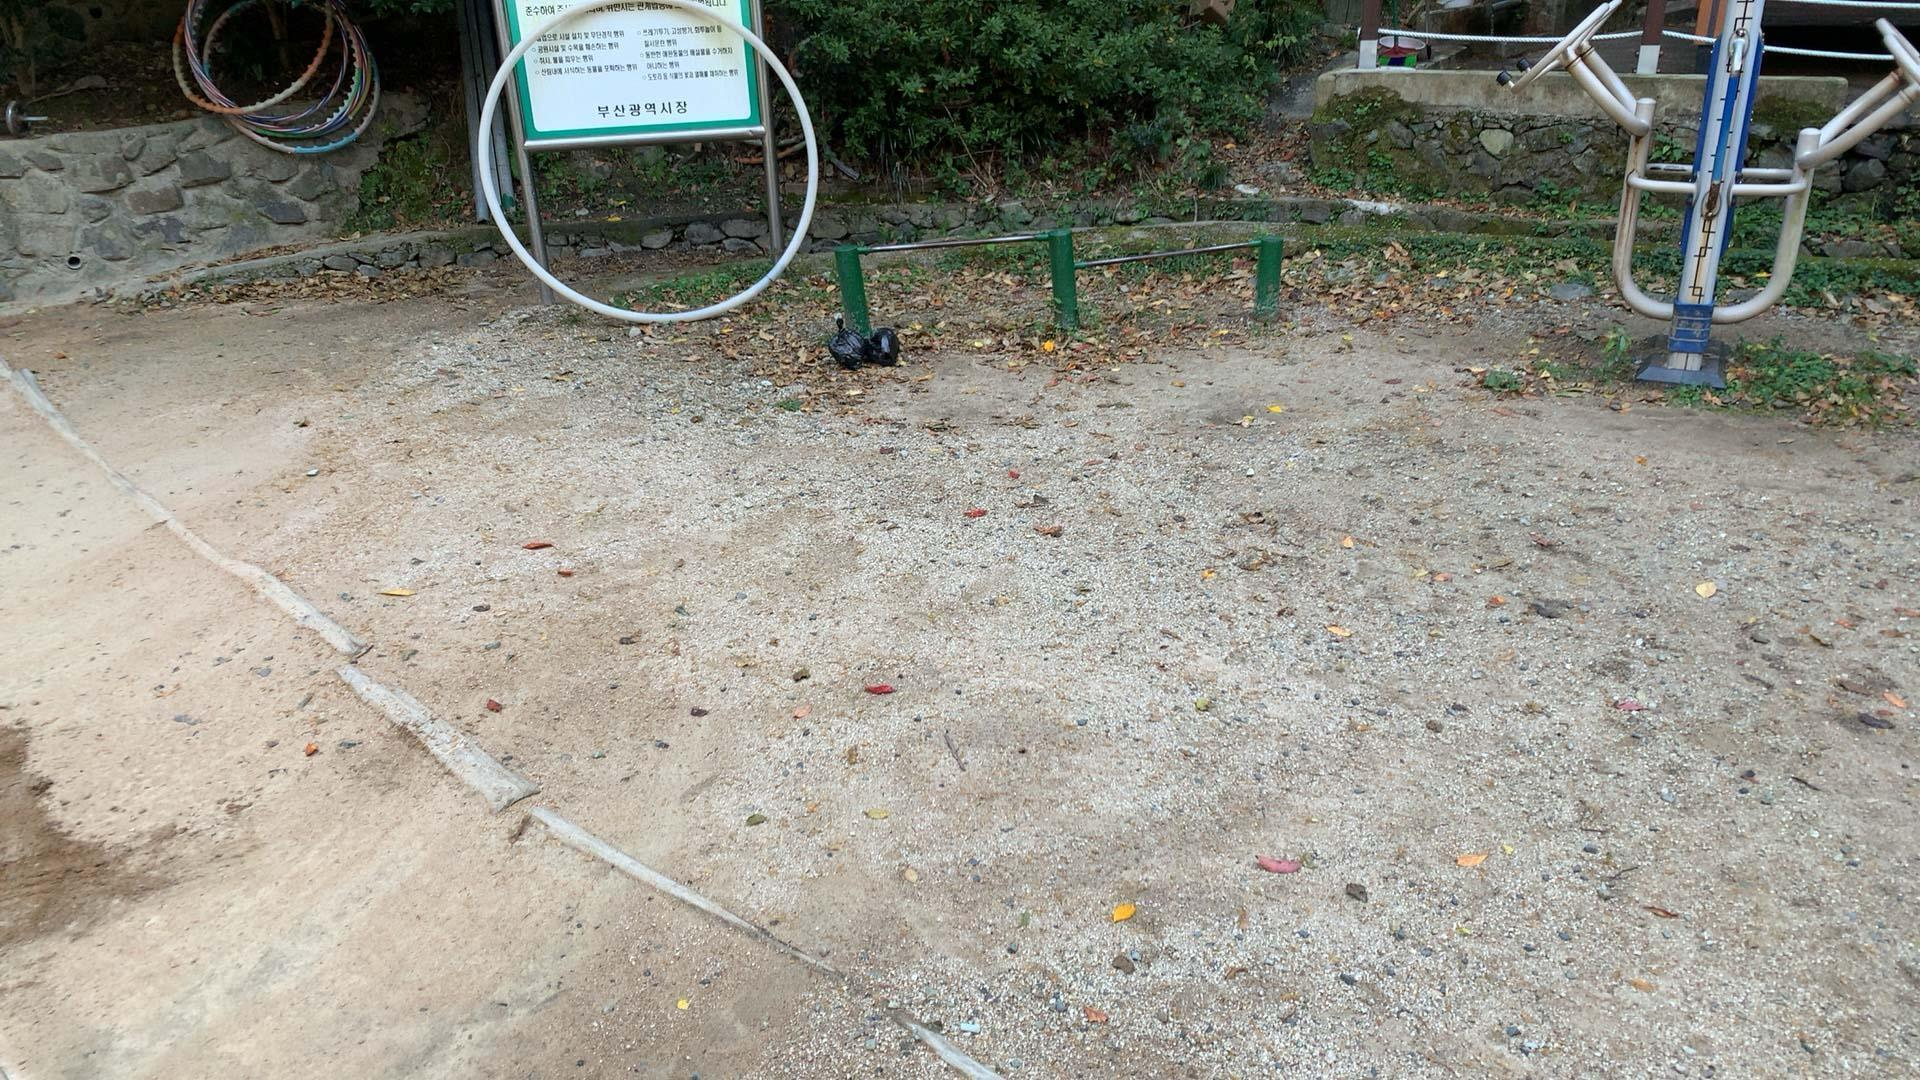black_bag: (825, 316, 872, 368), (865, 324, 902, 368)
